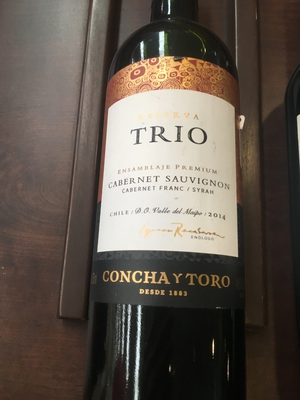trio cabernet sauvignon: (83, 22, 259, 390)
